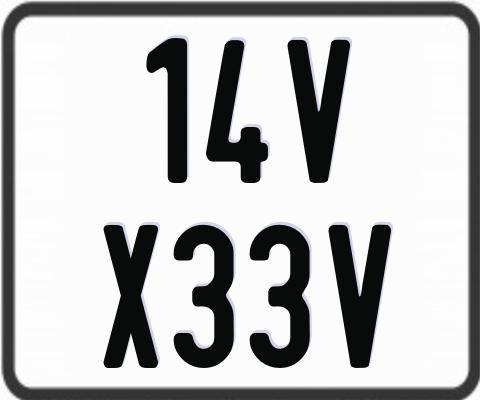1: (143, 38, 185, 183)
3: (249, 225, 313, 371), (173, 223, 235, 369)
4: (206, 38, 273, 187)
V: (329, 224, 397, 371), (285, 39, 348, 188)
X: (102, 224, 158, 368)
